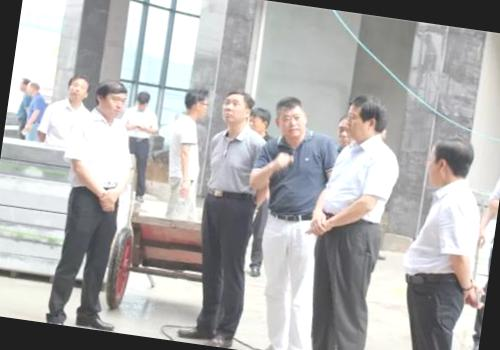no_helmet: (422, 131, 479, 192), (340, 93, 389, 149), (269, 90, 312, 146), (216, 86, 258, 132), (91, 76, 131, 119), (243, 103, 276, 142), (180, 86, 212, 124), (59, 72, 90, 108), (330, 112, 356, 152), (130, 88, 151, 114)
